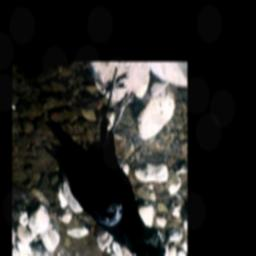Crow: (44, 67, 169, 256)
